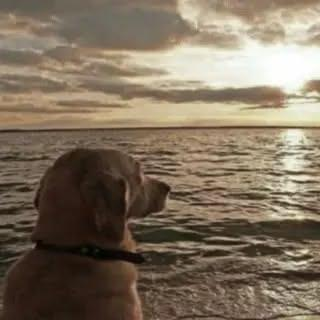adult_dog: (1, 144, 171, 320)
